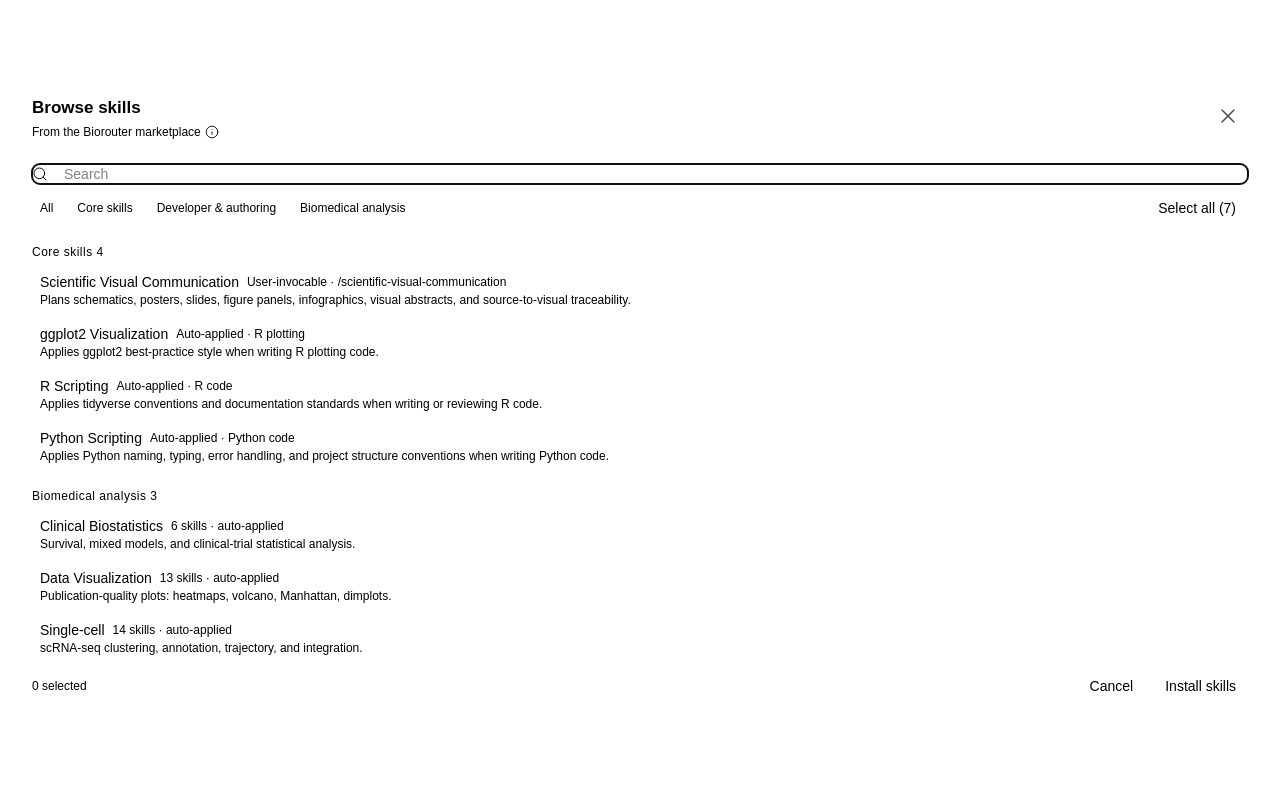
Scenario: BrowseSkillsModal — install copy counts skills, not rows › prices a package at the skills its row says it holds
Expected: the text "R Scripting" is shown, x1=40 y1=376 x2=108 y2=396
Click the checkbox named "Single-cell". click: click(201, 638)
box: x1=40 y1=622 x2=363 y2=655
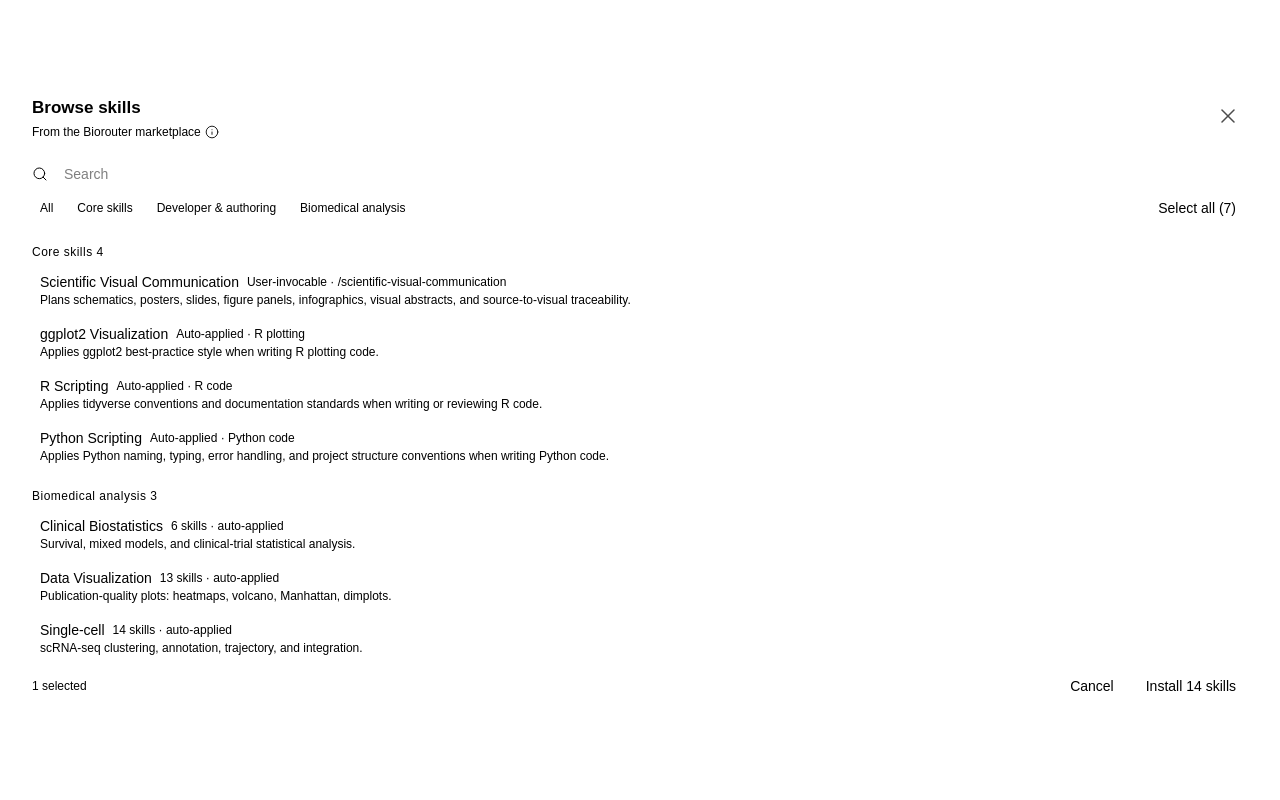
Expected: the button "Install 14 skills" is shown, x1=1134 y1=676 x2=1248 y2=696
Expected: the text "1 selected" is shown, x1=32 y1=678 x2=87 y2=694
